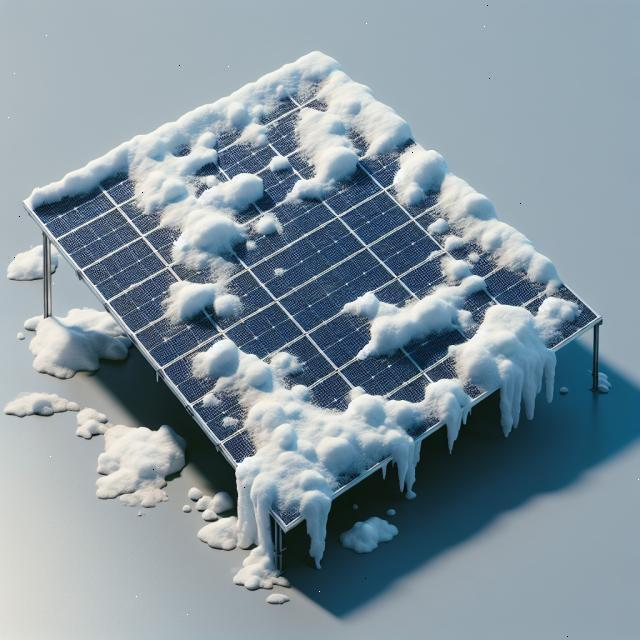Anomaly Solar Panel: (26, 0, 600, 543)
Snow: (23, 0, 415, 366), (170, 238, 474, 531), (360, 132, 572, 344), (433, 266, 589, 400), (332, 245, 499, 367), (262, 146, 295, 178)
